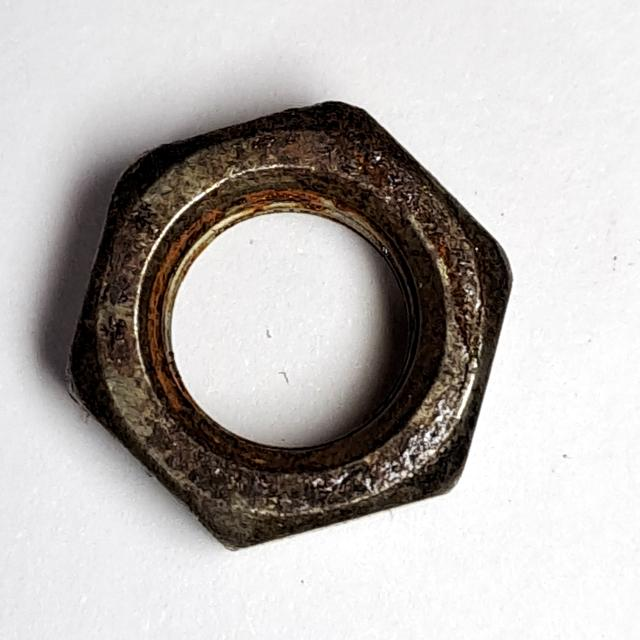Rust: (55, 89, 524, 567)
